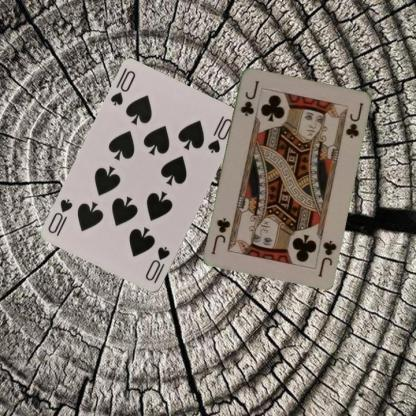10s: (142, 244, 172, 285), (107, 68, 137, 108)
Jc: (311, 233, 337, 278), (237, 77, 260, 117)
